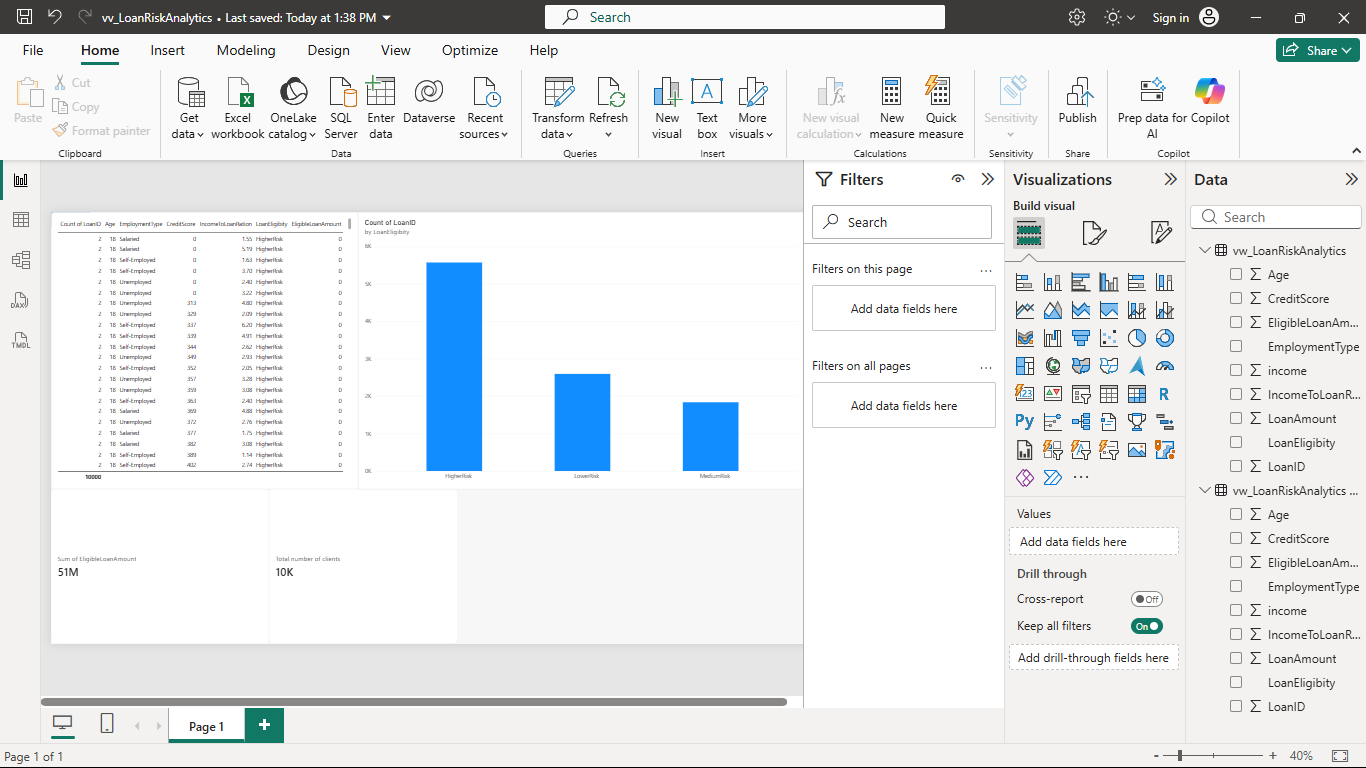

What the dashboard file says about the page in this screenshot:
{"tool":"powerbi","page":{"name":"Page 1","canvas":[1920,1080],"ordinal":0},"visuals":[{"type":"actionButton","box":[0,0,100,40],"z":0},{"type":"tableEx","fields":{"Values":["CountNonNull(vw_LoanRiskAnalytics (2).LoanID)","vw_LoanRiskAnalytics (2).Age","vw_LoanRiskAnalytics (2).EmploymentType","vw_LoanRiskAnalytics (2).CreditScore","vw_LoanRiskAnalytics (2).IncomeToLoanRation","vw_LoanRiskAnalytics (2).LoanEligibity","vw_LoanRiskAnalytics (2).EligibleLoanAmount"]},"box":[0,0,767.5,692.5],"z":1000},{"type":"cardVisual","fields":{"Data":["Sum(vw_LoanRiskAnalytics (2).EligibleLoanAmount)"]},"box":[0,692.5,545,387.5],"z":1001},{"type":"cardVisual","fields":{"Data":["CountNonNull(vw_LoanRiskAnalytics (2).LoanID)"]},"box":[545,692.5,472.5,387.5],"z":1002},{"type":"columnChart","fields":{"Category":["vw_LoanRiskAnalytics (2).LoanEligibity"],"Y":["CountNonNull(vw_LoanRiskAnalytics (2).LoanID)"]},"box":[767.5,0,1117.5,692.5],"z":1003}]}

Visuals, with their boxes on the page's 1920x1080 design canvas (x1, y1, x2, y2). These are canvas units, not pixel positions in the 1366x768 screenshot, which may show the page scaled, cropped or inside an application window:
actionButton: <box>0,0,100,40</box>
tableEx - CountNonNull(vw_LoanRiskAnalytics (2).LoanID) x vw_LoanRiskAnalytics (2).Age: <box>0,0,768,692</box>
cardVisual - Sum(vw_LoanRiskAnalytics (2).EligibleLoanAmount): <box>0,692,545,1080</box>
cardVisual - CountNonNull(vw_LoanRiskAnalytics (2).LoanID): <box>545,692,1018,1080</box>
columnChart - vw_LoanRiskAnalytics (2).LoanEligibity x CountNonNull(vw_LoanRiskAnalytics (2).LoanID): <box>768,0,1885,692</box>
